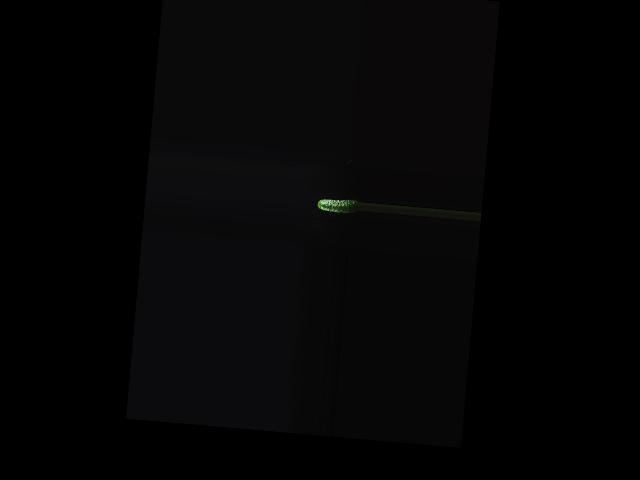cucumber: (317, 196, 359, 214)
